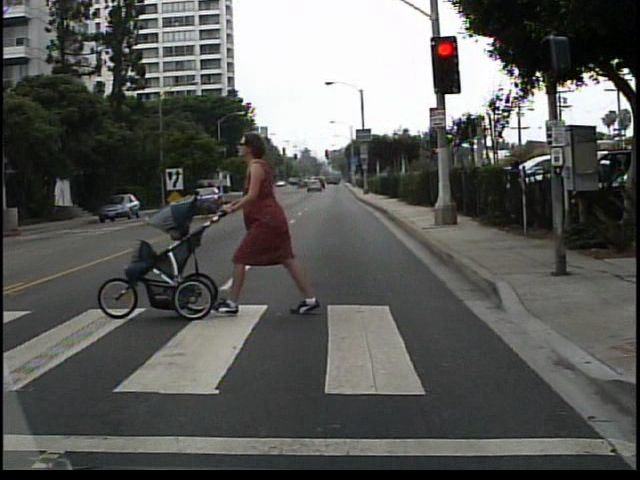person: (219, 129, 322, 319)
